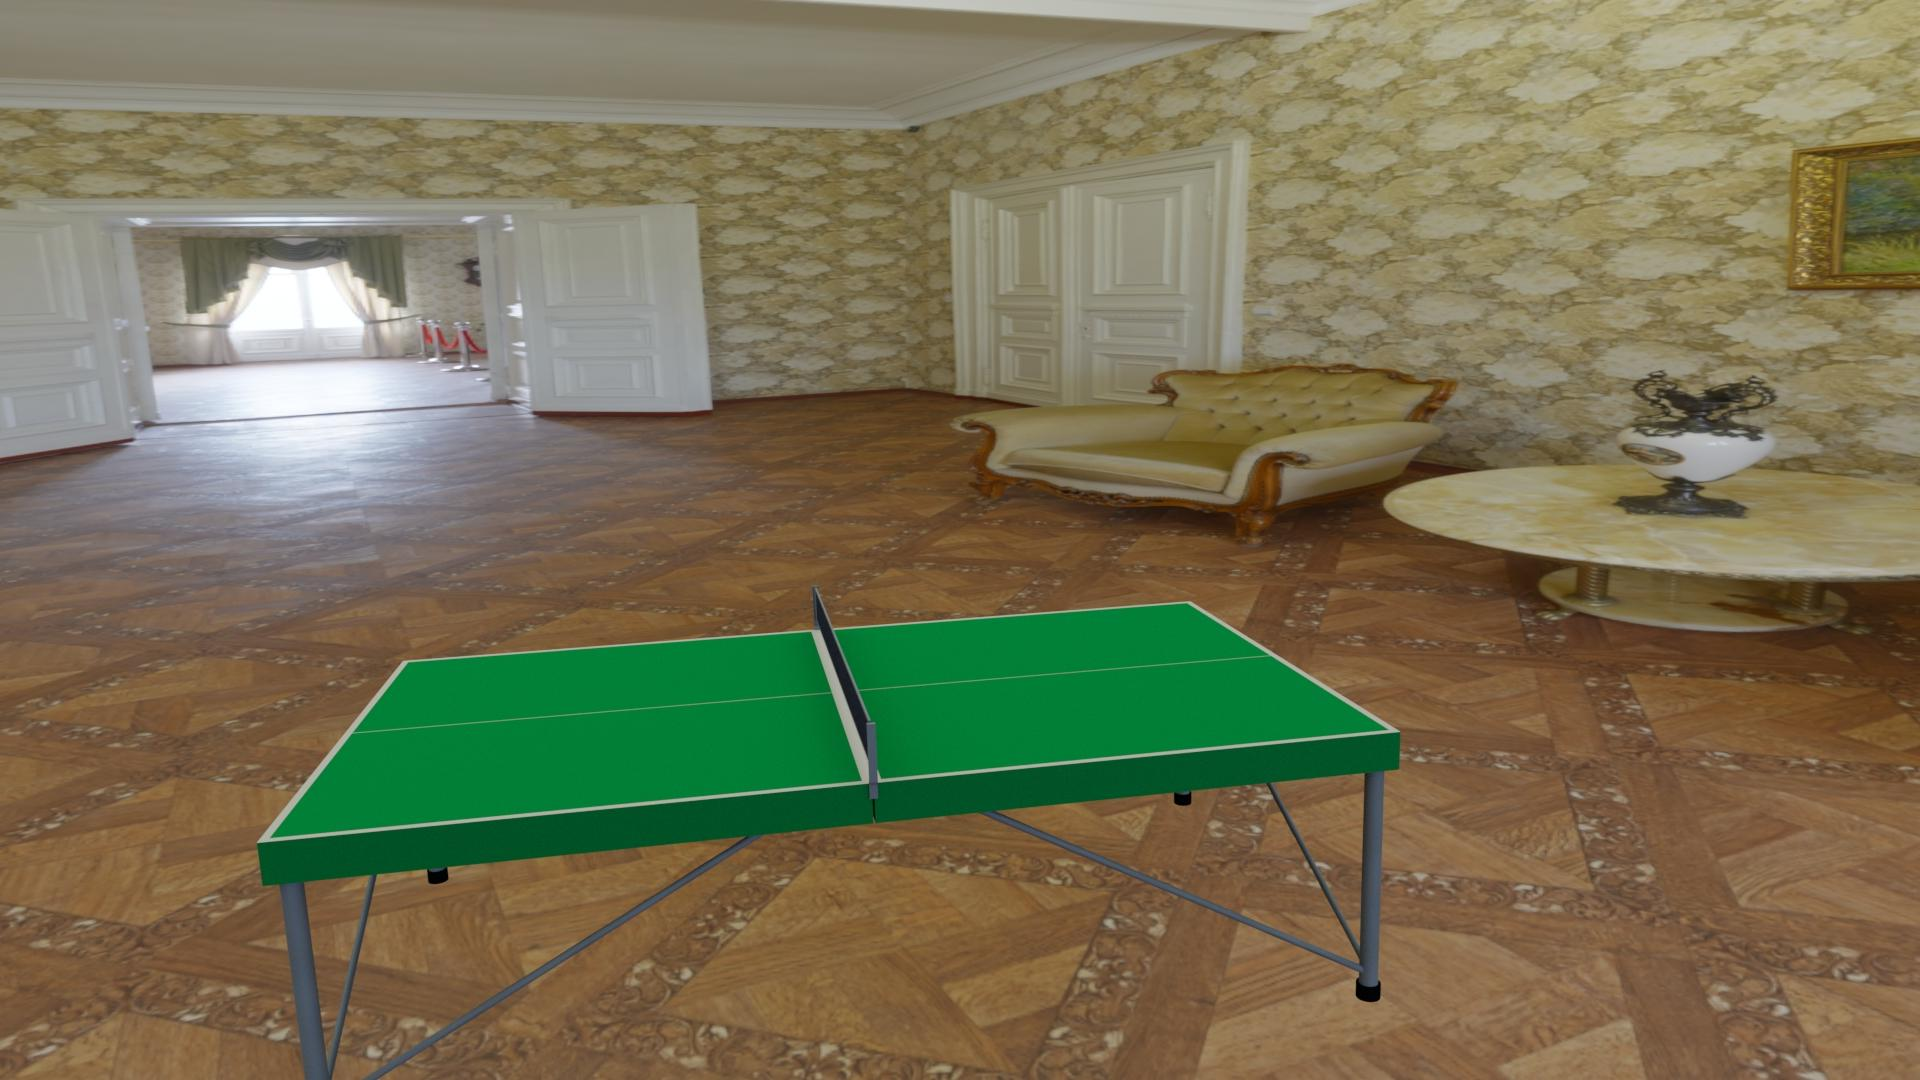table: (269, 603, 1390, 839)
